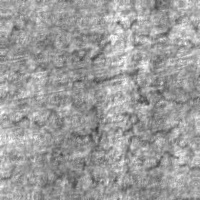crazing: (49, 5, 200, 108), (0, 92, 122, 189), (113, 108, 199, 177)
